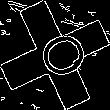O_SW: (23, 25, 87, 85)
